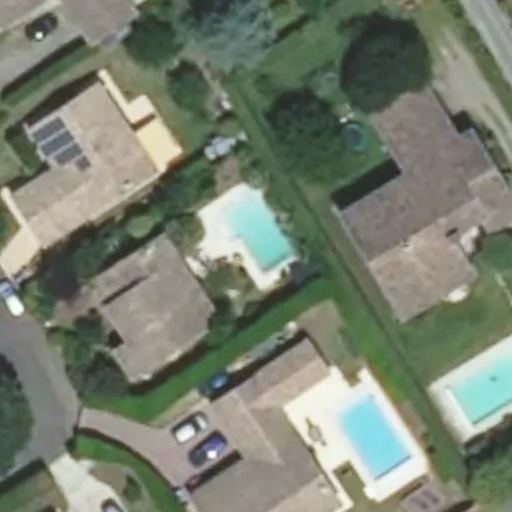pool: (226, 222, 285, 261)
